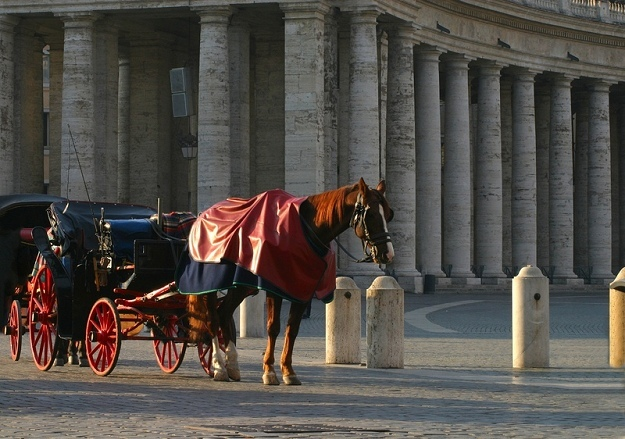horse: (178, 177, 396, 387)
